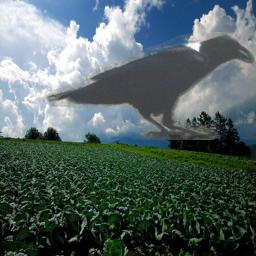Crow: (43, 32, 255, 140)
